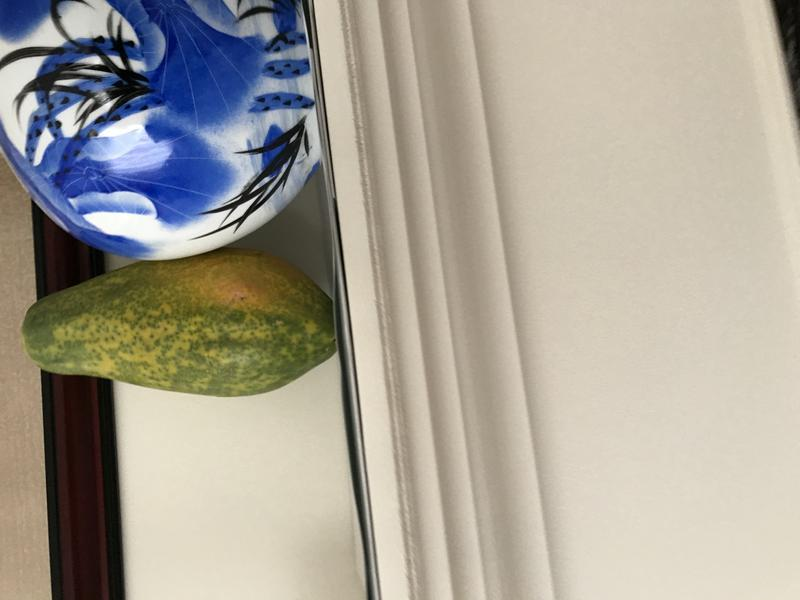papaya: (18, 240, 354, 405)
